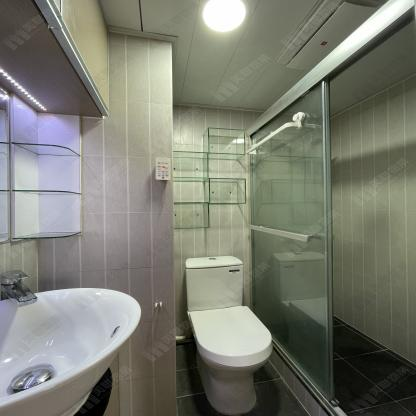Toilet: (184, 256, 275, 416)
Toilet Sink: (0, 286, 145, 416)
Water Cubicle: (241, 0, 413, 416)
